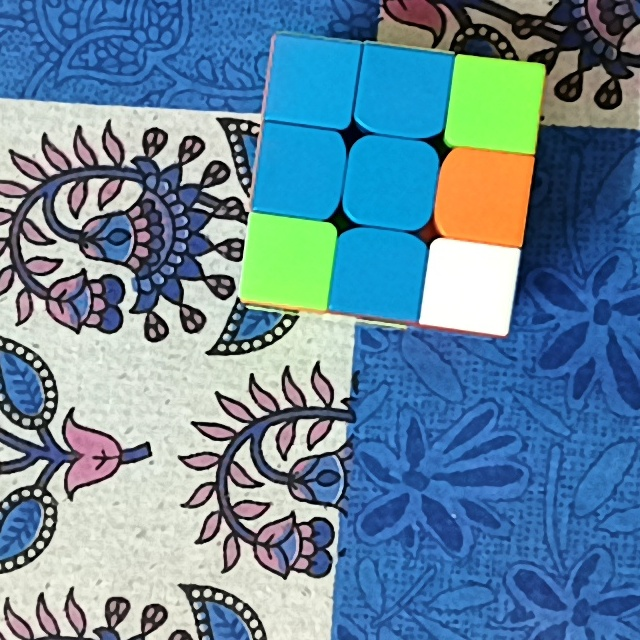tile: (356, 151, 427, 218), (452, 167, 521, 234), (251, 230, 320, 295), (370, 59, 439, 123), (462, 75, 529, 140), (264, 140, 331, 205), (437, 251, 500, 318), (280, 50, 341, 115), (347, 243, 410, 305)
